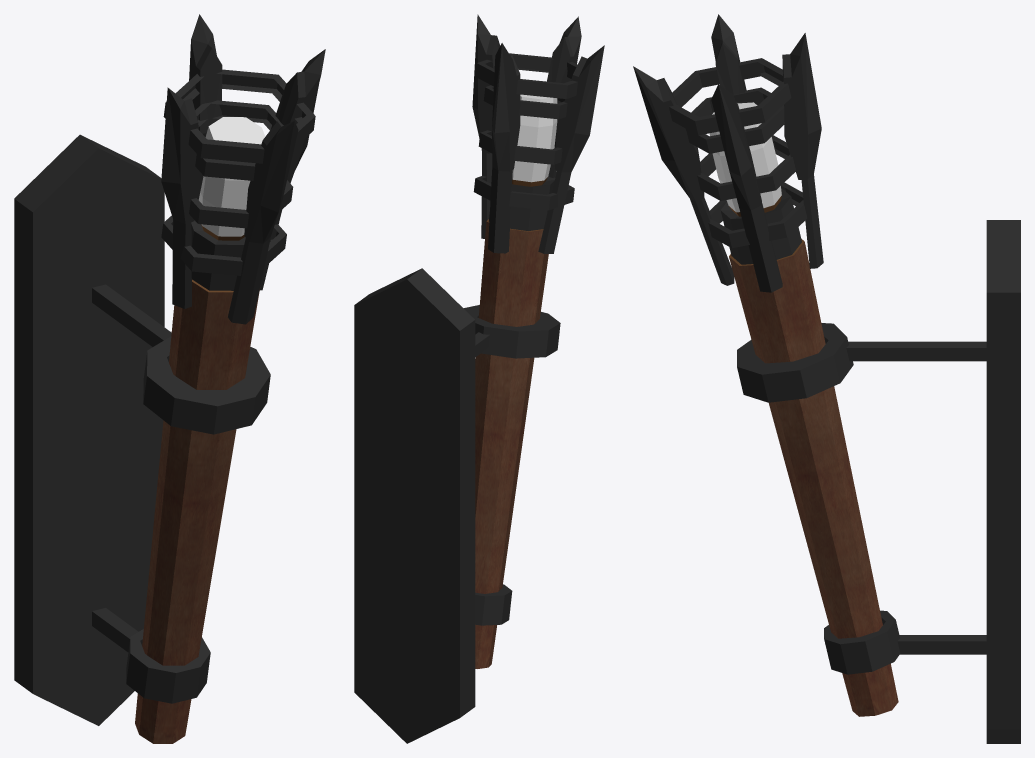
The model's file is torch_stand.fbx.
3 renders of one model, left to right at view 1: azimuth 30°, elevation 25°; view 2: azimuth 150°, elevation 25°; view 3: azimuth 270°, elevation 25°, orthographic. The views are drawn at different scales.
Visible parts, largest first — view 1: Cylinder.005; view 2: Cylinder.005; view 3: Cylinder.005.
Part boxes in pixels (x1,y1,x2,y2): Cylinder.005: [14, 14, 325, 743]; Cylinder.005: [354, 14, 604, 743]; Cylinder.005: [633, 14, 1020, 743].
Bounding box in the file's own units: 25.77 × 122 × 60.4.
Materials: 4 (1 with a texture image).
